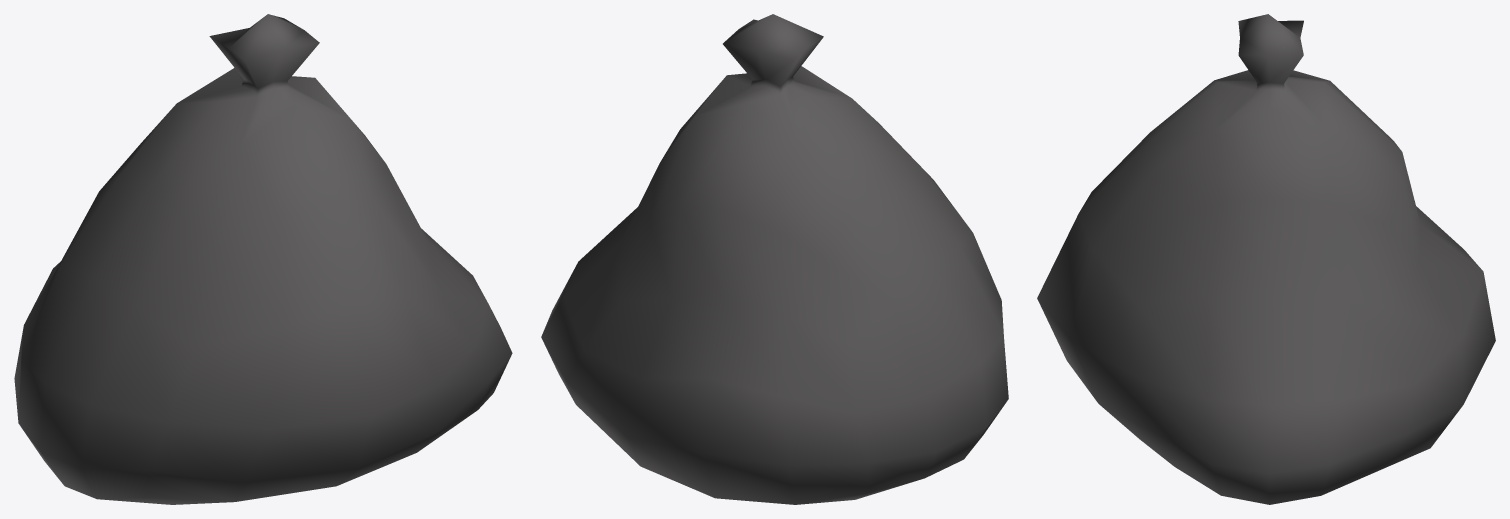
File: Lixo.fbx
3 views of the same model, side by side, from view 1: azimuth 30°, elevation 25°; view 2: azimuth 150°, elevation 25°; view 3: azimuth 270°, elevation 25° (orthographic). The views are drawn at different scales.
Visible parts, largest first — view 1: Lixo; view 2: Lixo; view 3: Lixo.
Part boxes in pixels (bbox=[...]): Lixo: bbox=[14, 14, 512, 504]; Lixo: bbox=[541, 14, 1008, 504]; Lixo: bbox=[1037, 14, 1495, 504].
Size of the model in its own units: 0.8196 by 0.7887 by 0.7456.
